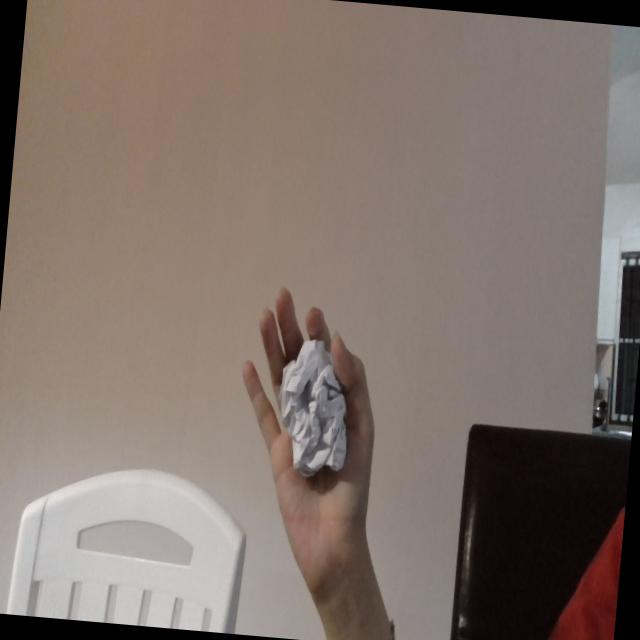crumpled_paper: (270, 328, 360, 484)
